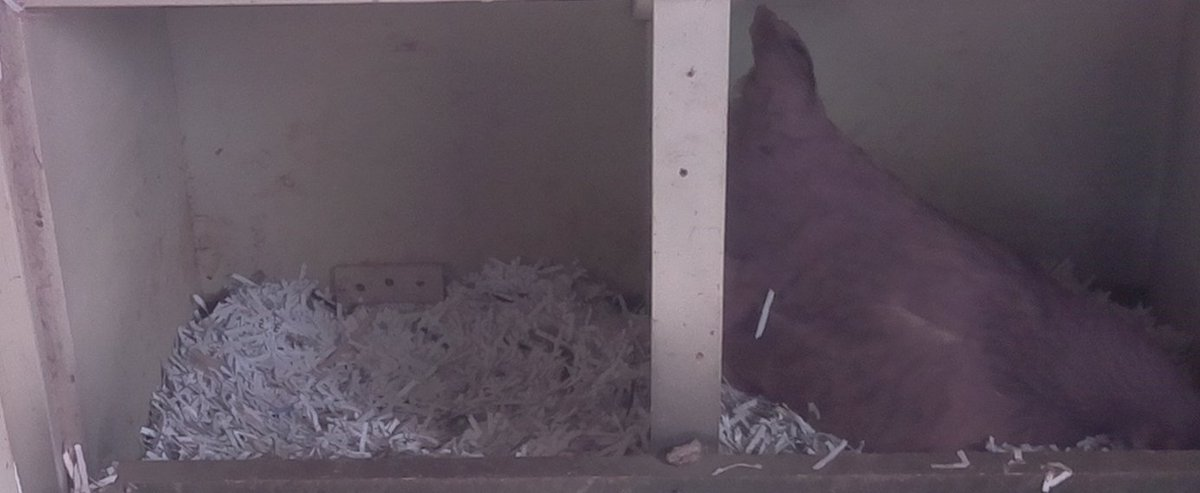hen: (737, 7, 1197, 451)
